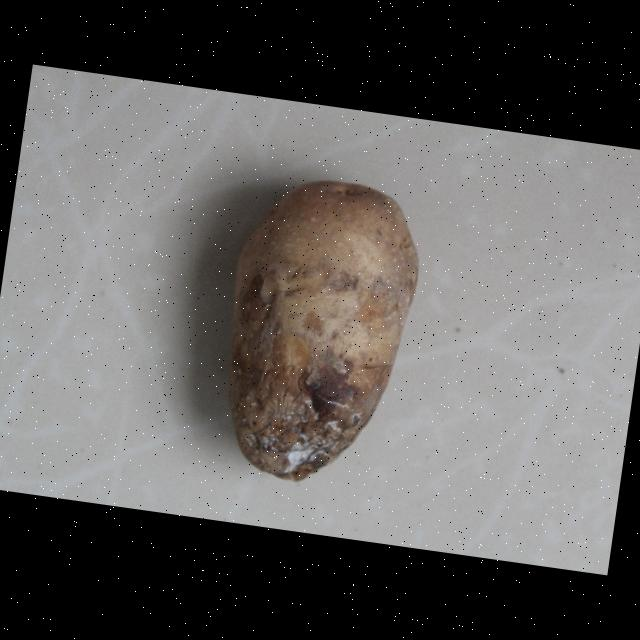Diseased-fungal potato: (209, 145, 438, 472)
